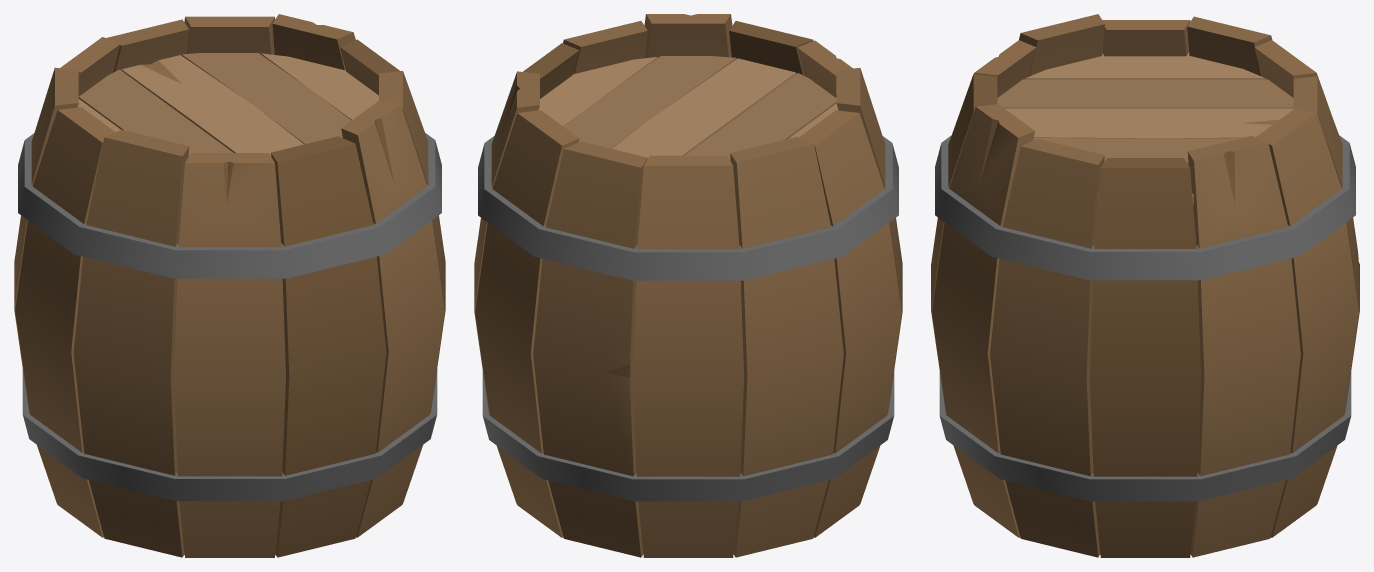
Rendered from Barrel_01.fbx.
The picture shows the model from 3 angles, left to right: view 1: azimuth 30°, elevation 25°; view 2: azimuth 150°, elevation 25°; view 3: azimuth 270°, elevation 25°; orthographic projection.
Parts seen in each view (by area): view 1: Barrel_01_LOD0; view 2: Barrel_01_LOD0; view 3: Barrel_01_LOD0.
Boxes of the visible parts, bbox=[...] form: Barrel_01_LOD0: bbox=[14, 14, 445, 557]; Barrel_01_LOD0: bbox=[474, 14, 902, 557]; Barrel_01_LOD0: bbox=[931, 14, 1359, 557].
Size of what is drawn, in the model's own units: 0.7488 by 0.7693 by 0.7488.
